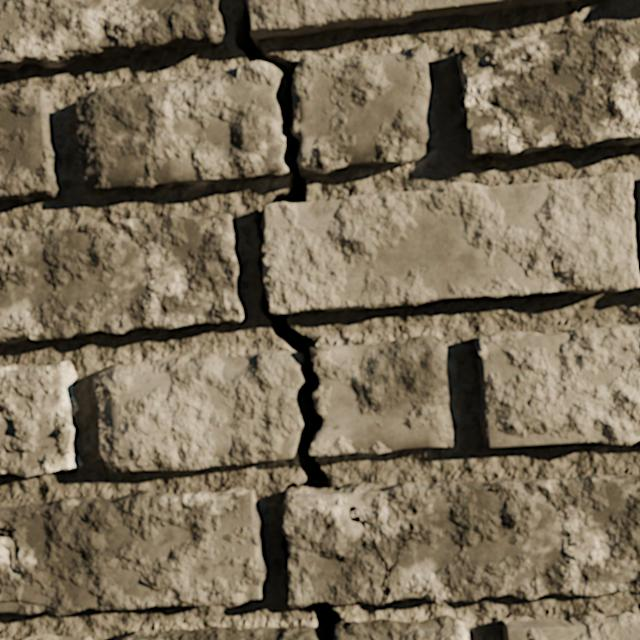broken_brick: (76, 61, 291, 192), (93, 350, 302, 471), (292, 43, 430, 176), (310, 336, 453, 455), (334, 615, 469, 639), (122, 626, 316, 639)
crack: (232, 0, 639, 639), (0, 487, 266, 616), (0, 214, 243, 343), (458, 20, 639, 158), (475, 324, 639, 447), (0, 0, 223, 70), (0, 361, 82, 477), (0, 87, 61, 203), (502, 611, 639, 639), (16, 634, 91, 639), (393, 443, 440, 449), (446, 414, 447, 430)
